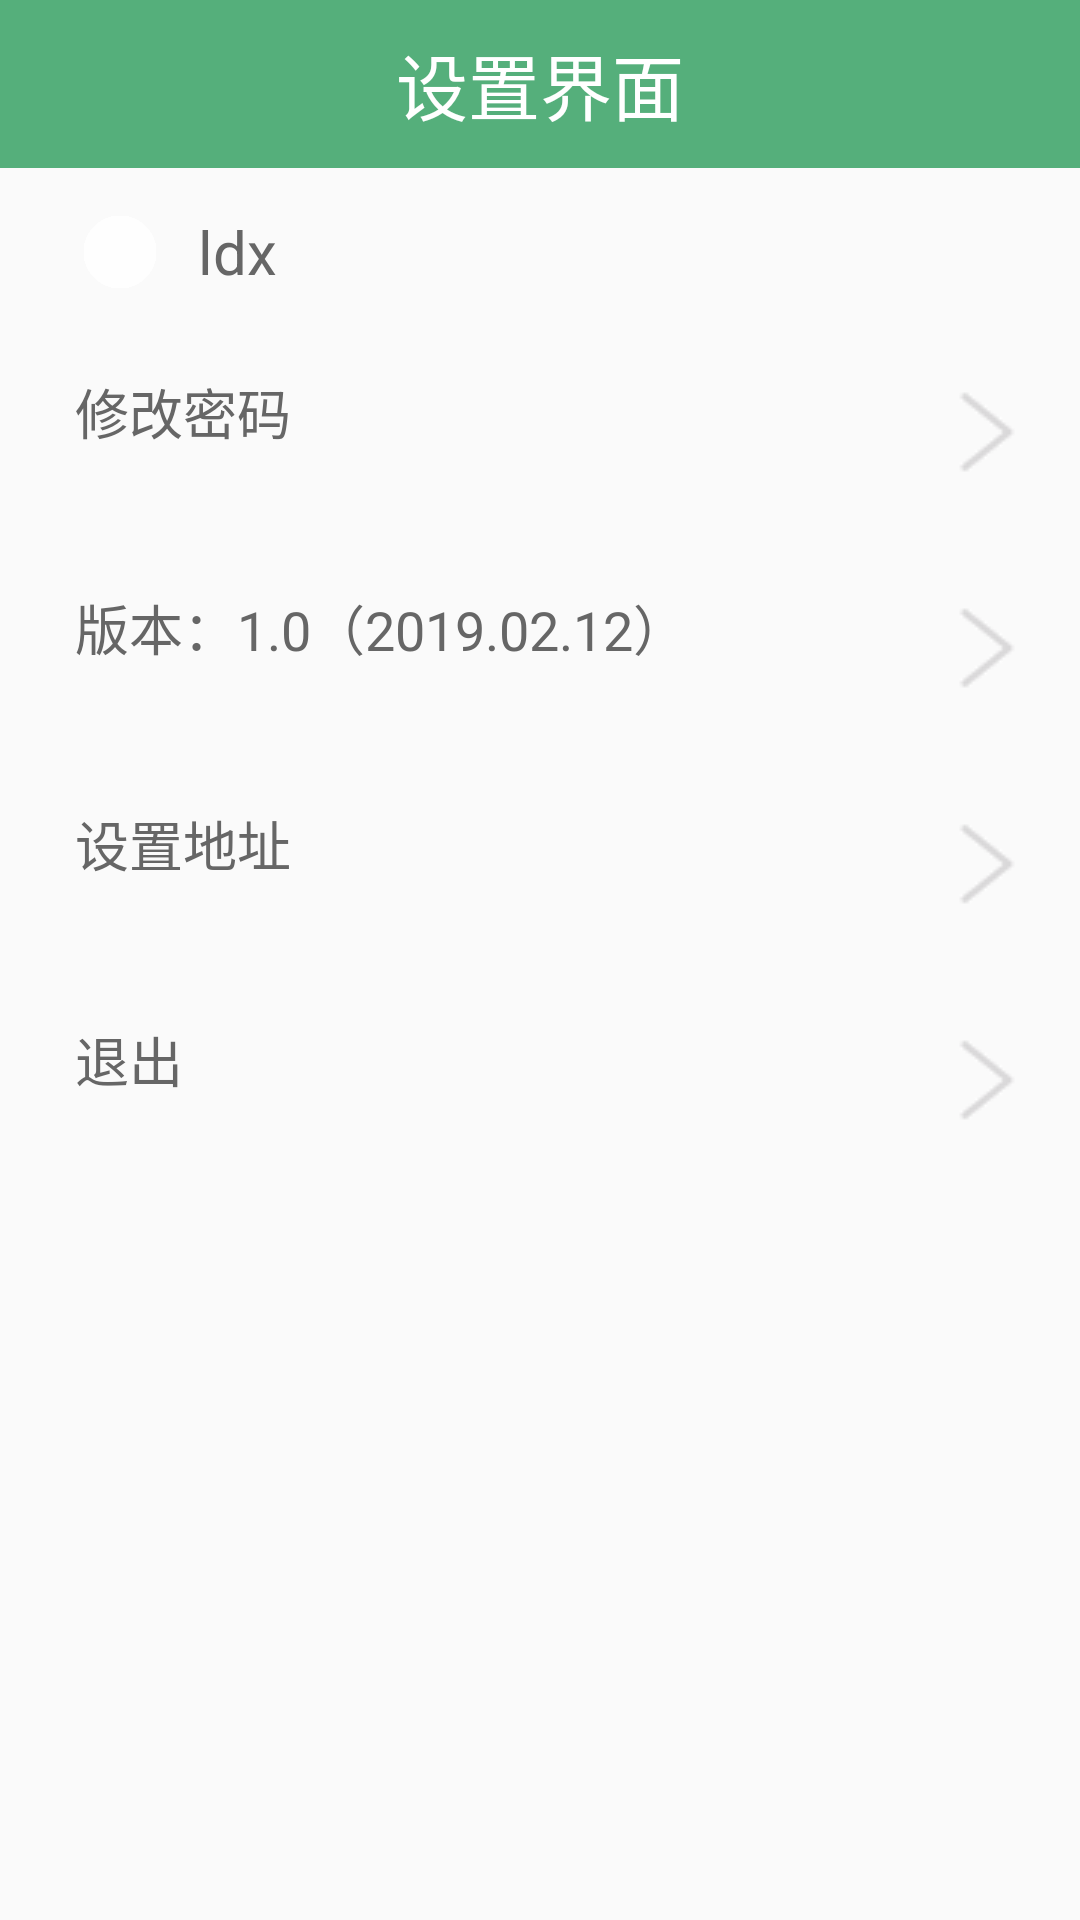

Point at icon controls on the screen. Image size 1080px×1920px, points as (x,y).
more: (987,432), (987,648), (987,864), (987,1080)
